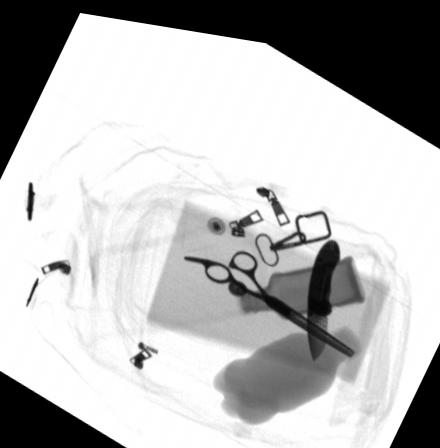Knife: (306, 227, 341, 350)
Scissors: (182, 239, 354, 347)
